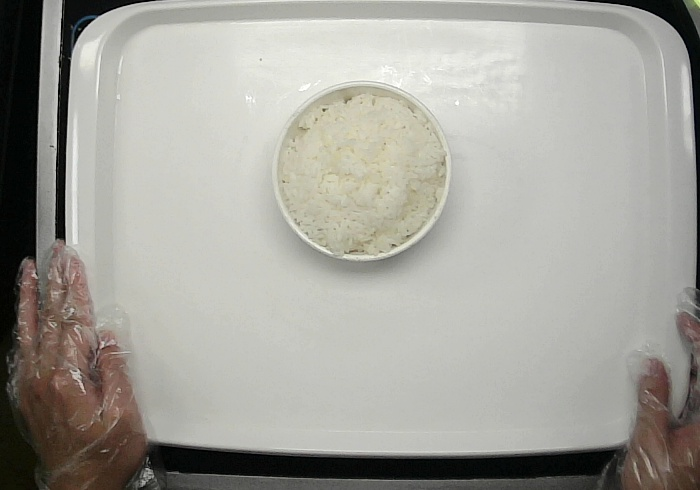HZYJPL-Fan_Wan: (269, 78, 453, 263)
